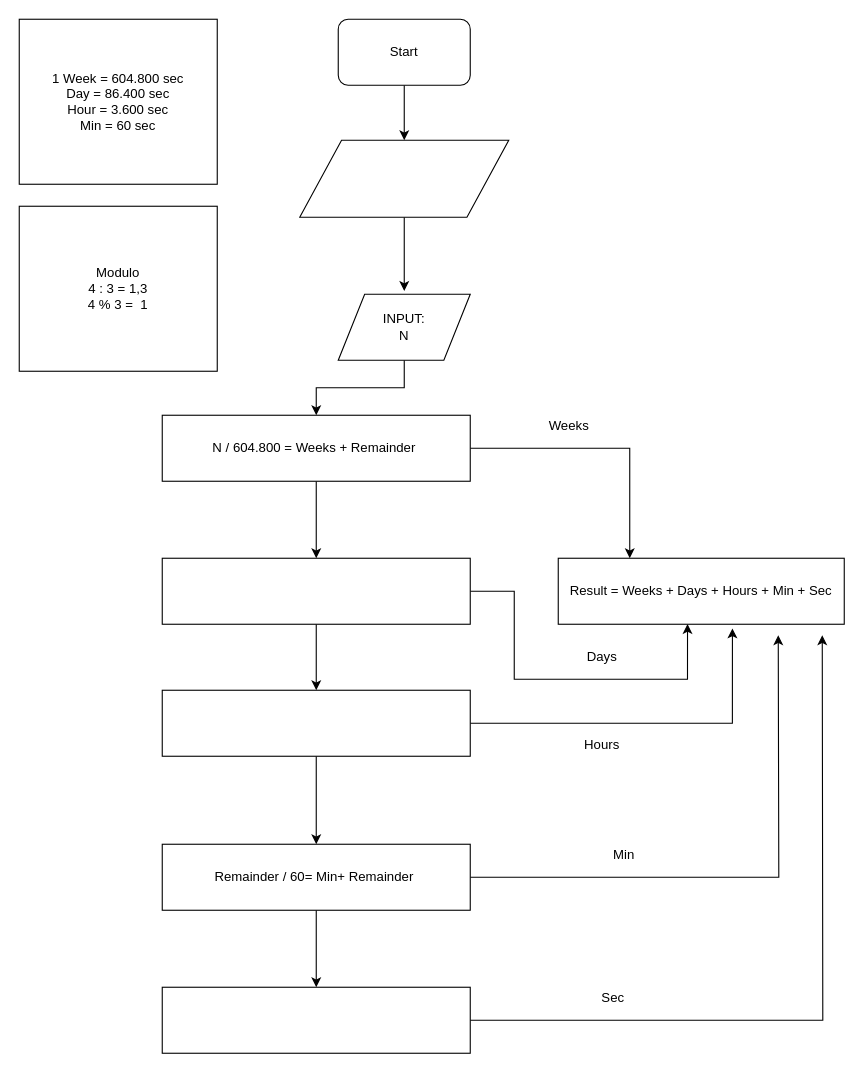
The diagram is 864 pixels wide and 1073 high, and some of its shapes have lost their labels. Here are the shapes that lost their labels. From the top down, the centre of each, then its label:
At pixel 404 178: "OUTPUT: Please enter a number".
At pixel 315 590: "Remainder / 86.400 = Days + Remainder".
At pixel 315 722: "Remainder / 3.600 = Hours + Remainder".
At pixel 315 1019: "Remainder = Sec".
